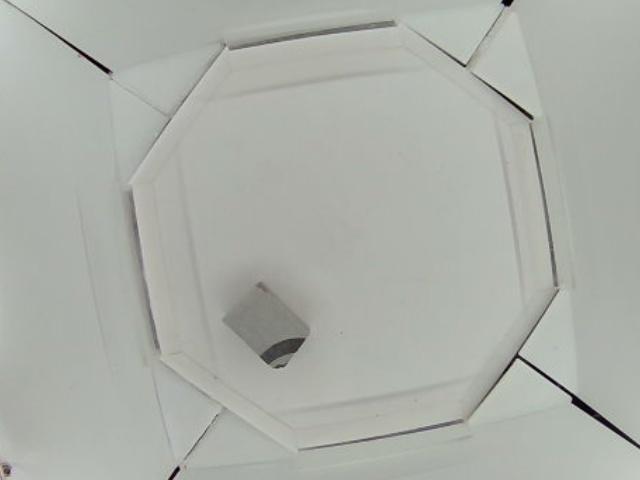China: (222, 283, 311, 370)
